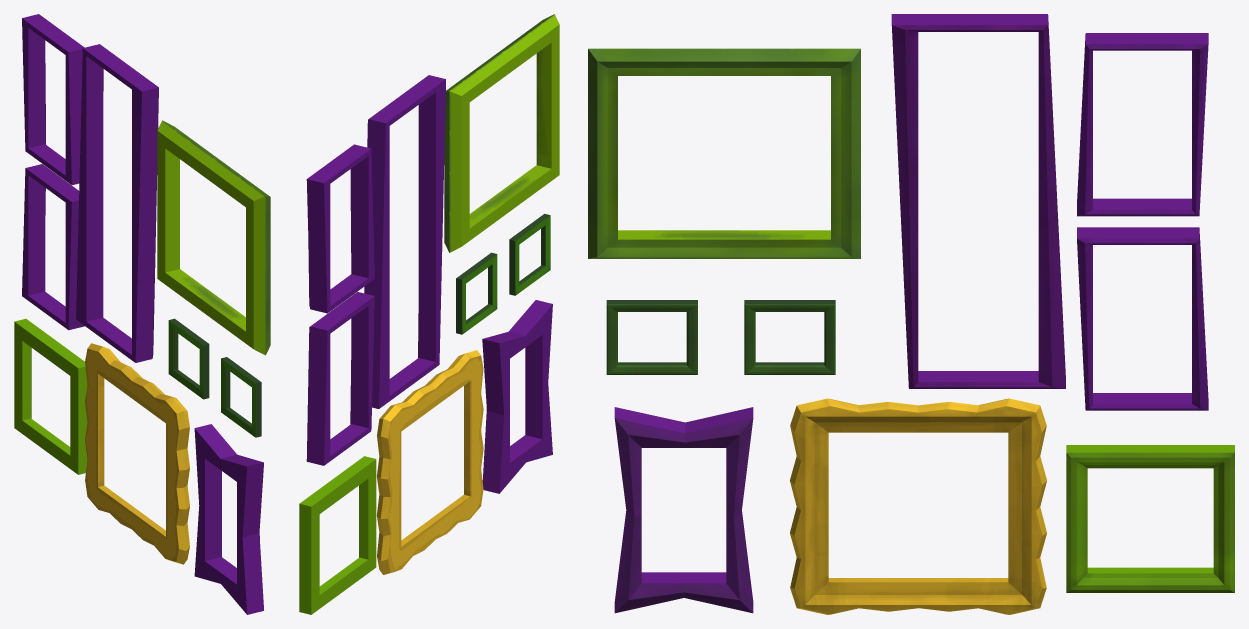
The model's file is NewFrame 1.fbx.
The picture shows the model from 3 angles, left to right: view 1: azimuth 30°, elevation 25°; view 2: azimuth 150°, elevation 25°; view 3: azimuth 270°, elevation 25°; orthographic projection. The views are drawn at different scales.
Visible parts, largest first — view 1: Cube.006, Cube, Cube.004, Cube.003, Cube.007, Cube.009, Cube.005, Cube.008, Cube.001; view 2: Cube.006, Cube, Cube.004, Cube.003, Cube.009, Cube.007, Cube.005, Cube.001, Cube.008; view 3: Cube.004, Cube, Cube.006, Cube.003, Cube.005, Cube.007, Cube.009, Cube.001, Cube.008.
Boxes of the visible parts, x1=… form: Cube.006: x1=76, y1=44, x2=158, y2=362; Cube: x1=157, y1=120, x2=270, y2=355; Cube.004: x1=85, y1=343, x2=189, y2=564; Cube.003: x1=194, y1=424, x2=263, y2=614; Cube.007: x1=22, y1=14, x2=84, y2=184; Cube.009: x1=22, y1=164, x2=84, y2=330; Cube.005: x1=14, y1=318, x2=87, y2=474; Cube.008: x1=168, y1=318, x2=209, y2=399; Cube.001: x1=221, y1=357, x2=261, y2=437; Cube.006: x1=364, y1=75, x2=445, y2=408; Cube: x1=444, y1=14, x2=559, y2=252; Cube.004: x1=376, y1=350, x2=483, y2=574; Cube.003: x1=482, y1=300, x2=552, y2=493; Cube.009: x1=306, y1=292, x2=374, y2=465; Cube.007: x1=306, y1=144, x2=374, y2=313; Cube.005: x1=299, y1=456, x2=376, y2=614; Cube.001: x1=509, y1=213, x2=550, y2=295; Cube.008: x1=456, y1=252, x2=497, y2=334; Cube.004: x1=790, y1=398, x2=1046, y2=614; Cube: x1=588, y1=48, x2=860, y2=258; Cube.006: x1=891, y1=14, x2=1065, y2=388; Cube.003: x1=614, y1=407, x2=753, y2=613; Cube.005: x1=1066, y1=445, x2=1234, y2=592; Cube.007: x1=1077, y1=33, x2=1208, y2=216; Cube.009: x1=1077, y1=227, x2=1208, y2=410; Cube.001: x1=606, y1=300, x2=697, y2=374; Cube.008: x1=744, y1=300, x2=835, y2=374.
Bounding box in the file's own units: 36.95 × 804 × 789.
